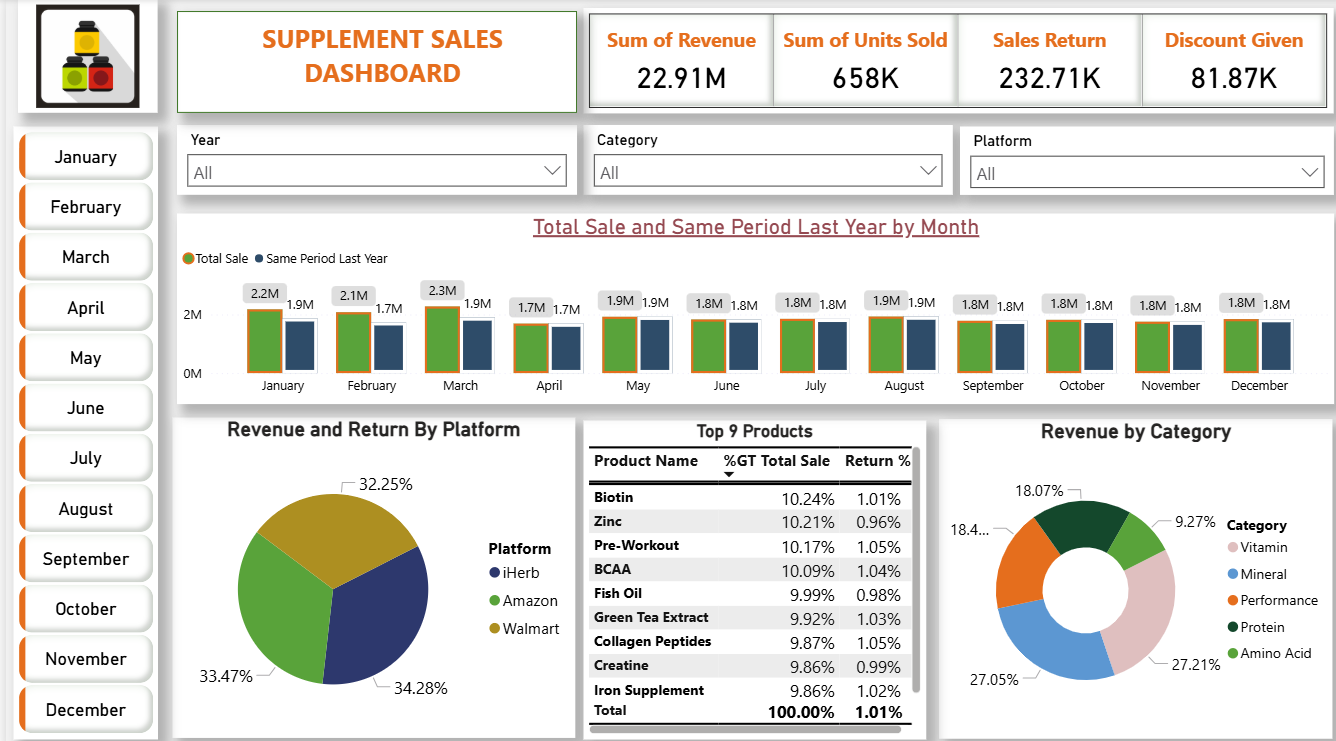

The dashboard page shown, as its layout file describes it:
{"tool":"powerbi","page":{"name":"Supplement Sales Dashboard","canvas":[1280,720],"ordinal":0},"visuals":[{"type":"pieChart","title":"Revenue and Return By Platform","fields":{"Category":["Supplement Sales.Platform"],"Y":["Sum(Supplement Sales.Revenue)"]},"box":[159,399.8,384.6,305.9],"z":1000},{"type":"cardVisual","fields":{"Data":["Sum(Supplement Sales.Revenue)","Sum(Supplement Sales.Units Sold)","Supplement Sales.Return Of Material","Supplement Sales.Discount Given"]},"box":[551.4,8.1,717.3,100.8],"z":2000},{"type":"advancedSlicerVisual","fields":{"Values":["Custom_Calender.Date.Variation.Date Hierarchy.Month"]},"box":[6.5,122,138.3,585.6],"z":3000},{"type":"donutChart","title":"Revenue by Category","fields":{"Category":["Supplement Sales.Category"],"Y":["Sum(Supplement Sales.Revenue)"]},"box":[890.9,401.1,376.7,305.1],"z":4000},{"type":"pivotTable","title":"Top 9 Products","fields":{"Rows":["Supplement Sales.Product Name"],"Values":["Divide(Supplement Sales.Total Sale, ScopedEval(Supplement Sales.Total Sale, []))","Supplement Sales.Return %"]},"box":[551.2,402.8,327.1,304.4],"z":5000},{"type":"slicer","fields":{"Values":["Supplement Sales.Category"]},"box":[551.4,120.4,353,66.7],"z":6000},{"type":"slicer","fields":{"Values":["Custom_Calender.Date.Variation.Date Hierarchy.Year"]},"box":[162.7,120.4,382.2,66.7],"z":7000},{"type":"slicer","fields":{"Values":["Supplement Sales.Platform"]},"box":[910.9,122,357.8,65.1],"z":8000},{"type":"clusteredColumnChart","fields":{"Y":["Supplement Sales.Total Sale","Supplement Sales.Same Period Last Year"],"Category":["Custom_Calender.Date.Variation.Date Hierarchy.Year","Custom_Calender.Date.Variation.Date Hierarchy.Quarter","Custom_Calender.Date.Variation.Date Hierarchy.Month"]},"box":[162.7,204.9,1106.1,182.2],"z":9000},{"type":"shape","box":[162.7,11.4,382.2,97.6],"z":10000},{"type":"textbox","box":[209.8,16.3,300.9,79.7],"z":11000},{"type":"image","box":[11.4,0,133.4,109],"z":12000}]}

Visuals, with their boxes in screenshot pixels (x1, y1, x2, y2), scaled from the page's 1280x720 canvas onto the 1336x741 screenshot:
"Revenue and Return By Platform" pieChart: box=[166, 411, 567, 726]
cardVisual - Sum(Supplement Sales.Revenue) x Sum(Supplement Sales.Units Sold): box=[576, 8, 1324, 112]
advancedSlicerVisual - Custom_Calender.Date.Variation.Date Hierarchy.Month: box=[7, 126, 151, 728]
"Revenue by Category" donutChart: box=[930, 413, 1323, 727]
"Top 9 Products" pivotTable: box=[575, 415, 917, 728]
slicer - Supplement Sales.Category: box=[576, 124, 944, 193]
slicer - Custom_Calender.Date.Variation.Date Hierarchy.Year: box=[170, 124, 569, 193]
slicer - Supplement Sales.Platform: box=[951, 126, 1324, 193]
clusteredColumnChart - Supplement Sales.Total Sale x Supplement Sales.Same Period Last Year: box=[170, 211, 1324, 398]
shape: box=[170, 12, 569, 112]
textbox: box=[219, 17, 533, 99]
image: box=[12, 0, 151, 112]
